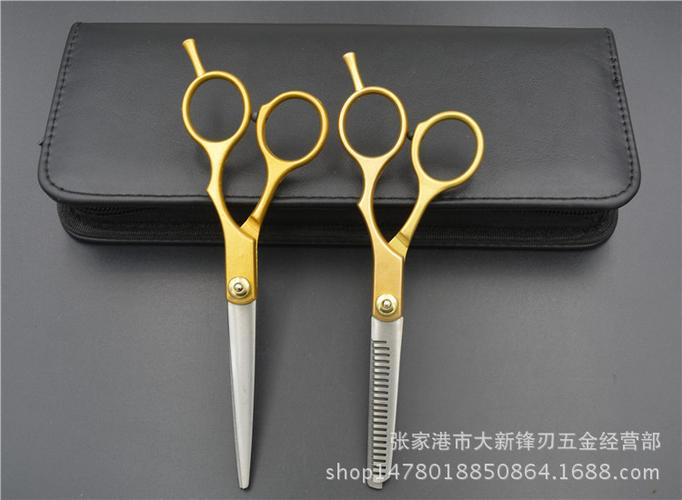scissor: (178, 37, 332, 488), (338, 49, 485, 495)
